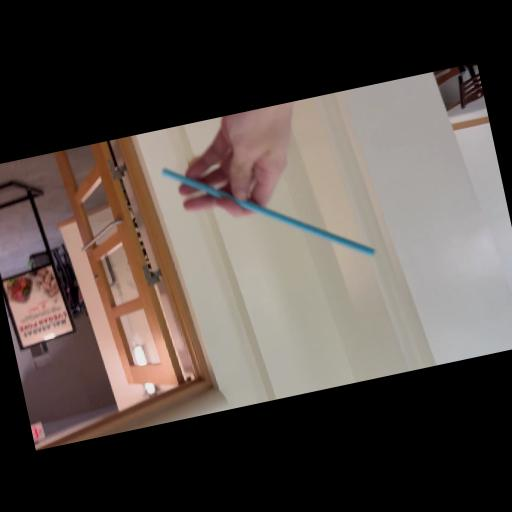straw: (144, 120, 388, 304)
